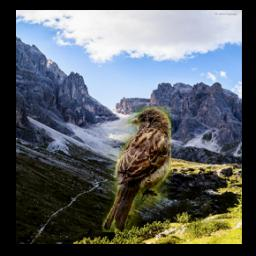Sparrow: (102, 106, 171, 232)
